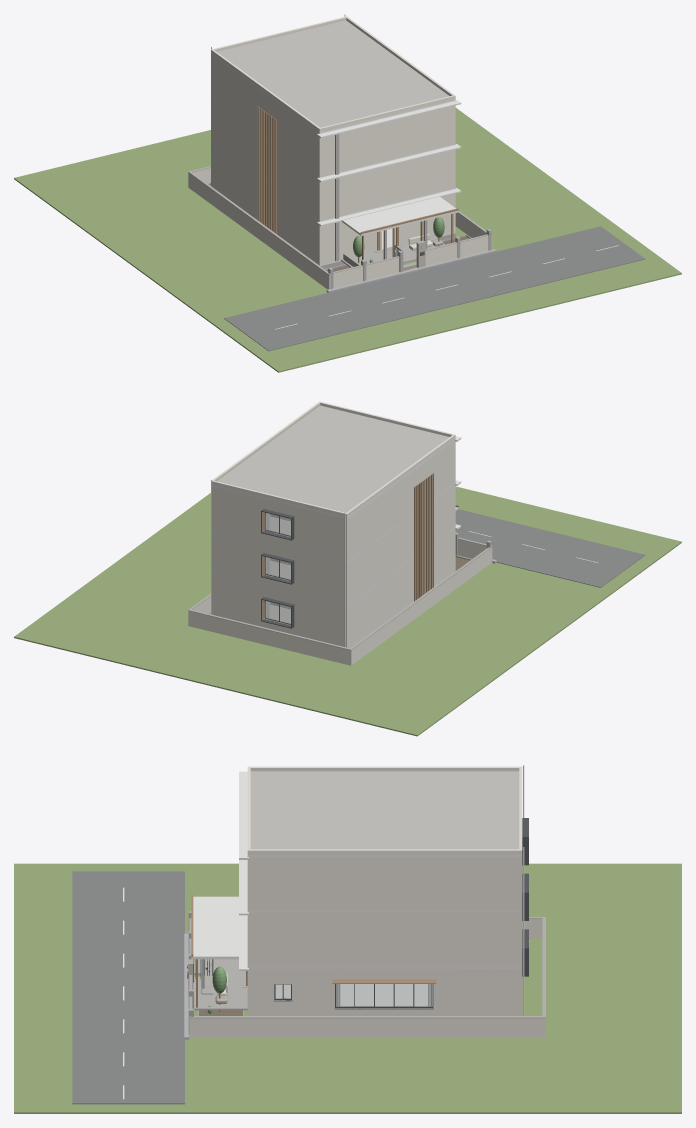
3 views of the same model, one above another, from view 1: azimuth 30°, elevation 25°; view 2: azimuth 150°, elevation 25°; view 3: azimuth 270°, elevation 25° (orthographic). The views are drawn at different scales.
Parts seen in each view (by area): view 1: world, custom-roof-finish-2, wall-6cc1a843c7b6e4c206/0, wall-69255ba3480d331934/0, custom-roof-edge-2, wall-fefe42095aec250551/0, wall-d029bd92a4aa13a4b4/0, wall-37420193f3728b7c7f/0, exterior-porch-01-roof, wall-1147c1160006c87ef3/0, wall-f92f0b10a995111dd0/0, wall-4a474f75644214719d/0 (+11 smaller); view 2: world, custom-roof-finish-2, custom-roof-edge-2, wall-ad1a1b9f2391e1a7a8/1, wall-fbf5a83ed3cd2b24d1/1, wall-4cb7673a32e1f30c72/1, wall-fefe42095aec250551/0, wall-d029bd92a4aa13a4b4/0, wall-37420193f3728b7c7f/0, wall-fbf5a83ed3cd2b24d1/2, wall-ad1a1b9f2391e1a7a8/2, wall-4cb7673a32e1f30c72/2 (+12 smaller); view 3: world, custom-roof-finish-2, wall-a1e8791139f59f6c2e/0, wall-3021ec83b68079df4c/0, custom-roof-edge-2, wall-b8bfe5d3c7095f353d/0, wall-c3296fd29f507871db/0, wall-5e24804a9f491829d3/0, exterior-porch-01-roof, f0-hall/floor, wall-9da513c35ef1339671/2, wall-768c816f0c18203d95/2 (+7 smaller).
Part boxes in pixels (left/top/right/bottom): world: left=14, top=14, right=681, bottom=372; custom-roof-finish-2: left=217, top=20, right=449, bottom=127; wall-6cc1a843c7b6e4c206/0: left=355, top=105, right=455, bottom=167; wall-69255ba3480d331934/0: left=355, top=149, right=455, bottom=211; custom-roof-edge-2: left=211, top=16, right=455, bottom=131; wall-fefe42095aec250551/0: left=264, top=94, right=321, bottom=176; wall-d029bd92a4aa13a4b4/0: left=265, top=183, right=321, bottom=264; wall-37420193f3728b7c7f/0: left=265, top=139, right=321, bottom=220; exterior-porch-01-roof: left=341, top=196, right=458, bottom=235; wall-1147c1160006c87ef3/0: left=211, top=143, right=237, bottom=203; wall-f92f0b10a995111dd0/0: left=211, top=99, right=237, bottom=159; wall-4a474f75644214719d/0: left=211, top=55, right=237, bottom=115; world: left=14, top=436, right=681, bottom=736; custom-roof-finish-2: left=217, top=405, right=449, bottom=512; custom-roof-edge-2: left=212, top=401, right=455, bottom=517; wall-ad1a1b9f2391e1a7a8/1: left=212, top=497, right=344, bottom=550; wall-fbf5a83ed3cd2b24d1/1: left=212, top=585, right=344, bottom=638; wall-4cb7673a32e1f30c72/1: left=212, top=541, right=344, bottom=594; wall-fefe42095aec250551/0: left=401, top=440, right=455, bottom=521; wall-d029bd92a4aa13a4b4/0: left=401, top=528, right=455, bottom=609; wall-37420193f3728b7c7f/0: left=401, top=484, right=455, bottom=565; wall-fbf5a83ed3cd2b24d1/2: left=212, top=574, right=344, bottom=617; wall-ad1a1b9f2391e1a7a8/2: left=212, top=486, right=344, bottom=529; wall-4cb7673a32e1f30c72/2: left=212, top=530, right=344, bottom=573; world: left=14, top=765, right=681, bottom=1113; custom-roof-finish-2: left=250, top=771, right=519, bottom=849; wall-a1e8791139f59f6c2e/0: left=250, top=912, right=454, bottom=965; wall-3021ec83b68079df4c/0: left=250, top=857, right=454, bottom=910; custom-roof-edge-2: left=247, top=766, right=522, bottom=854; wall-b8bfe5d3c7095f353d/0: left=454, top=912, right=519, bottom=965; wall-c3296fd29f507871db/0: left=454, top=857, right=519, bottom=910; wall-5e24804a9f491829d3/0: left=454, top=968, right=519, bottom=1015; exterior-porch-01-roof: left=191, top=896, right=238, bottom=959; f0-hall/floor: left=276, top=984, right=427, bottom=1006; wall-9da513c35ef1339671/2: left=318, top=968, right=454, bottom=981; wall-768c816f0c18203d95/2: left=250, top=968, right=318, bottom=984.
Size of the model in its own units: 30.19 by 10.38 by 34.29.
